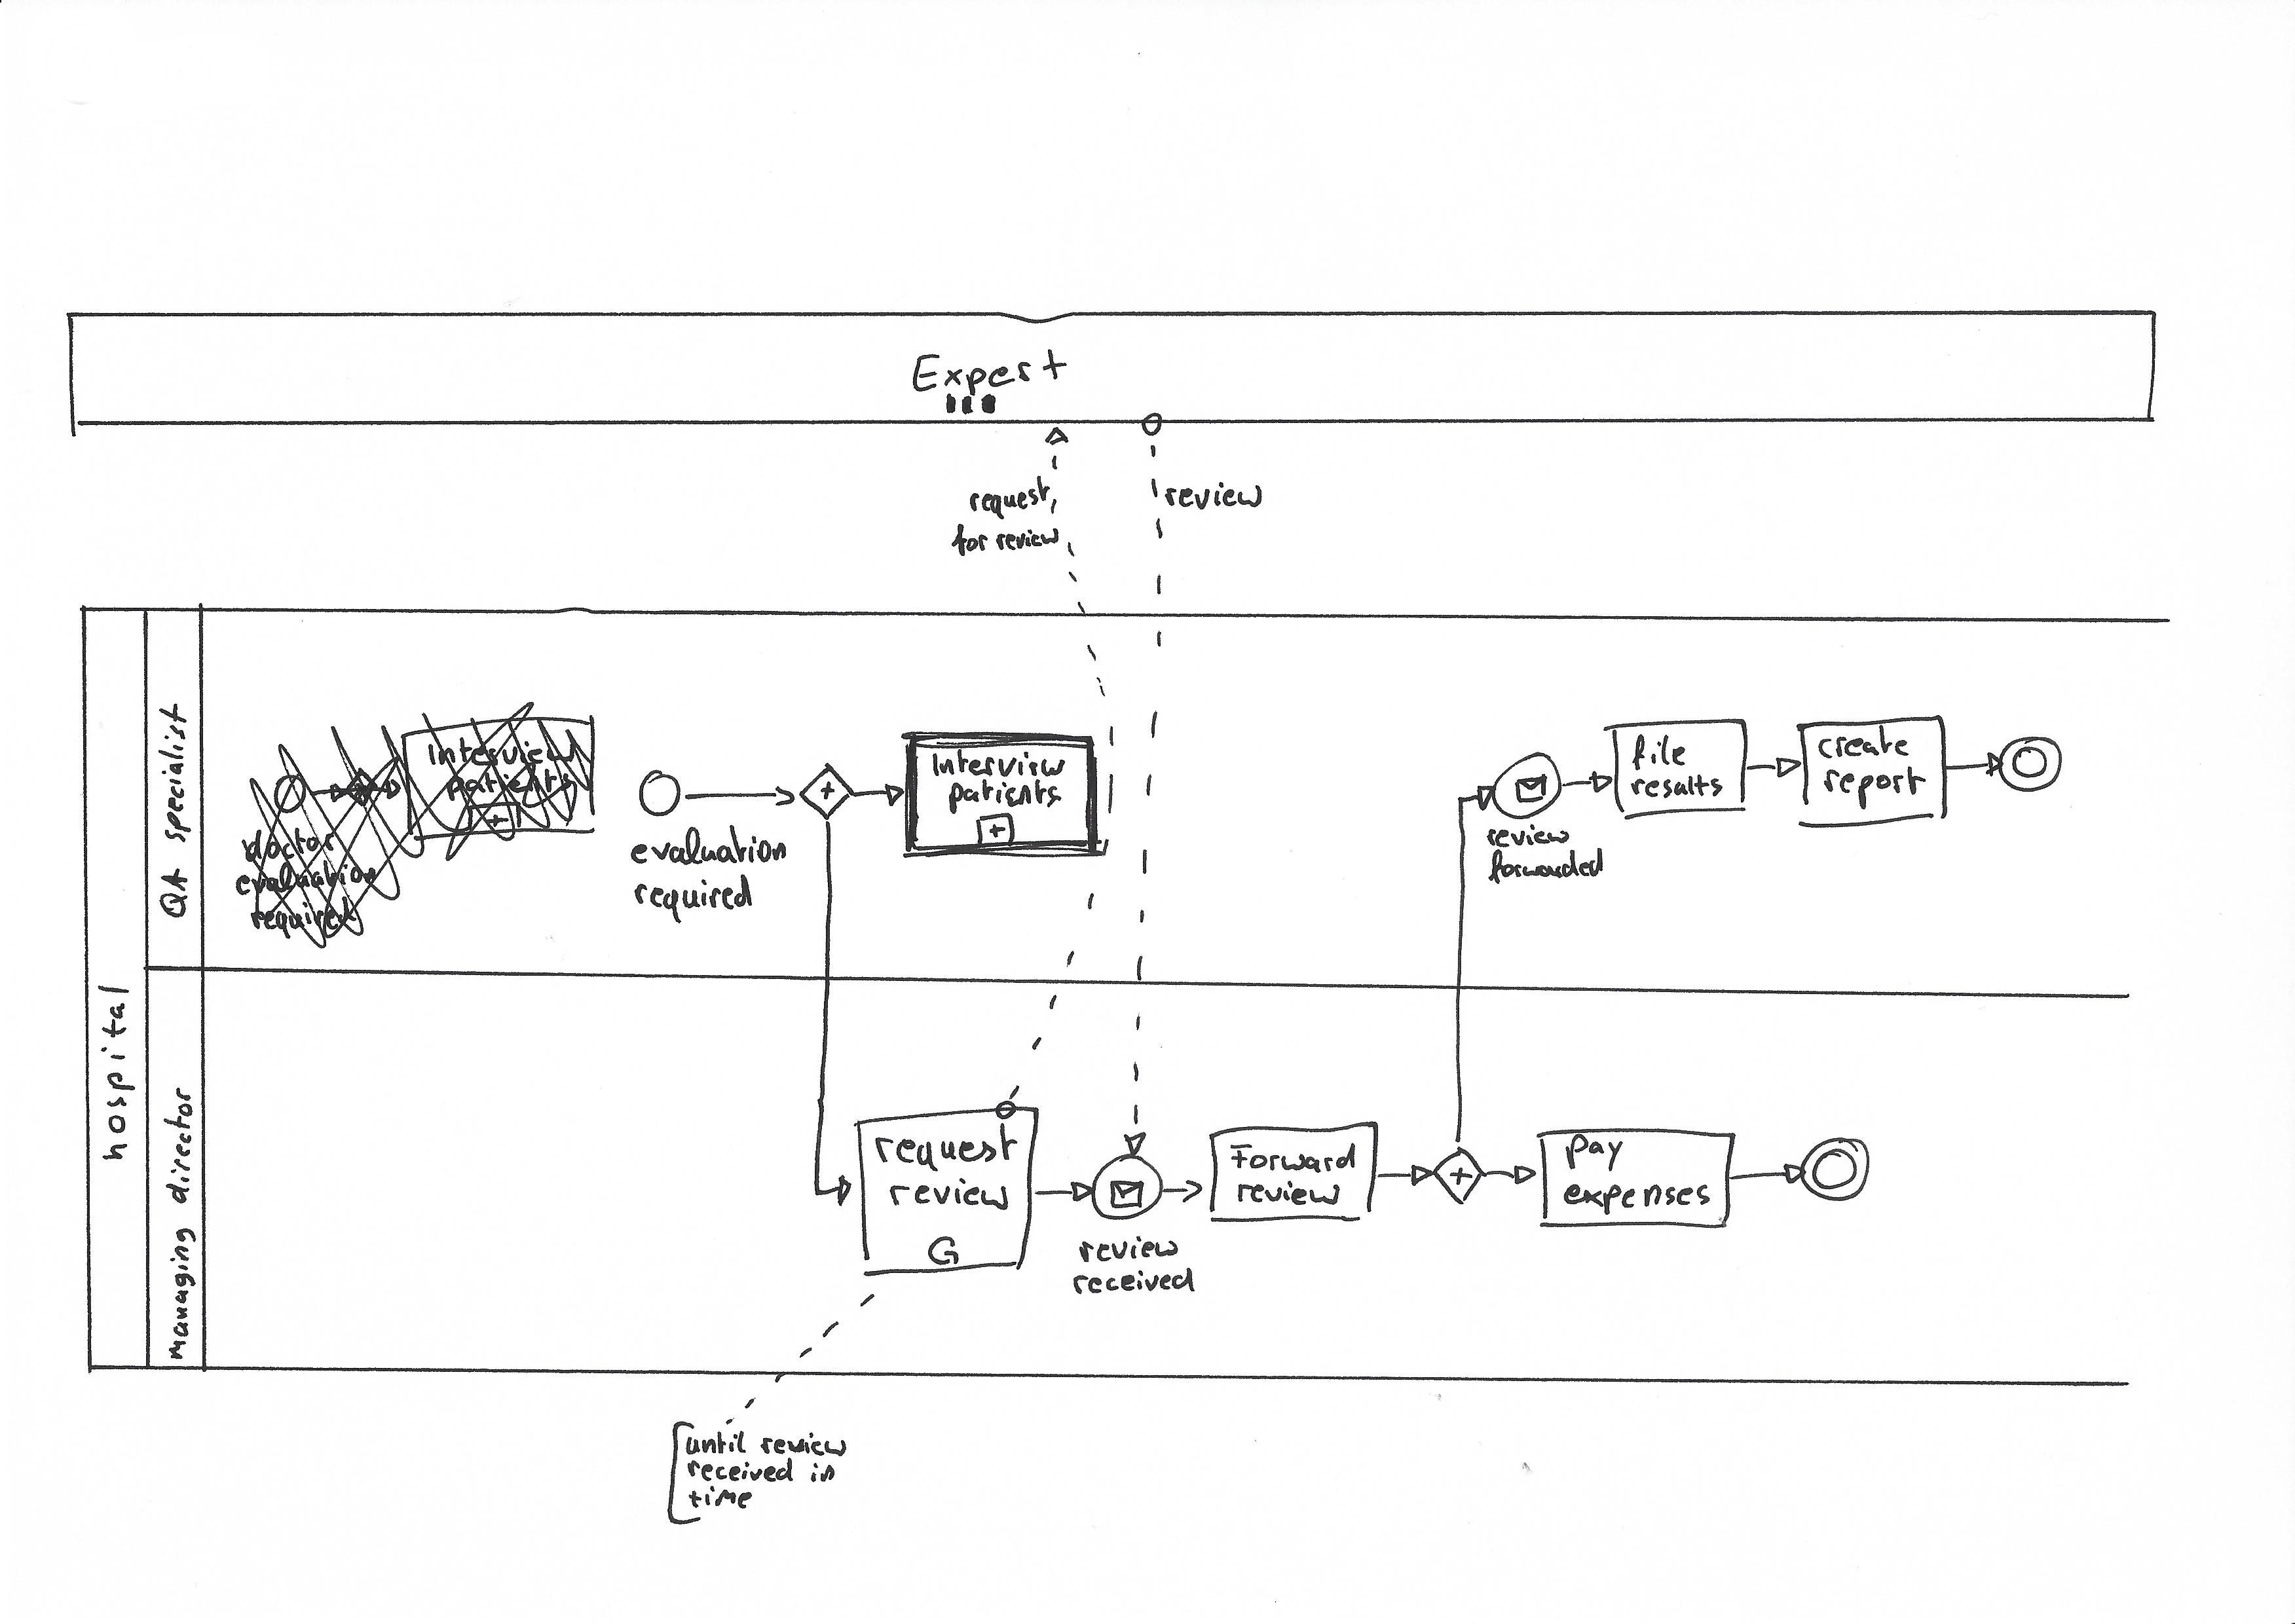Expert: (905, 341, 1074, 405)
Forward: (1223, 1138, 1362, 1177)
Interview: (926, 744, 1070, 784)
Pay: (1561, 1130, 1629, 1176)
QA: (155, 864, 193, 923)
create: (1812, 722, 1915, 764)
director: (159, 1084, 196, 1208)
evaluation: (624, 819, 793, 872)
expenses: (1560, 1179, 1714, 1219)
file: (1627, 728, 1692, 777)
for: (946, 518, 993, 563)
forwarded: (1483, 843, 1609, 889)
hospital: (90, 977, 143, 1168)
in: (806, 1460, 838, 1486)
managing: (164, 1224, 199, 1363)
patients: (942, 774, 1068, 822)
received: (1068, 1263, 1199, 1300), (682, 1453, 798, 1485)
report: (1818, 760, 1932, 817)
request: (869, 1117, 1024, 1179), (963, 469, 1055, 525)
required: (629, 868, 759, 931)
results: (1626, 769, 1730, 804)
review: (885, 1174, 1012, 1215), (1232, 1176, 1346, 1210), (1074, 1232, 1184, 1267), (1157, 477, 1269, 513), (1482, 819, 1575, 853), (756, 1428, 852, 1461), (991, 525, 1064, 555)
specialist: (153, 698, 197, 849)
time: (684, 1484, 756, 1513)
until: (681, 1428, 751, 1460)
